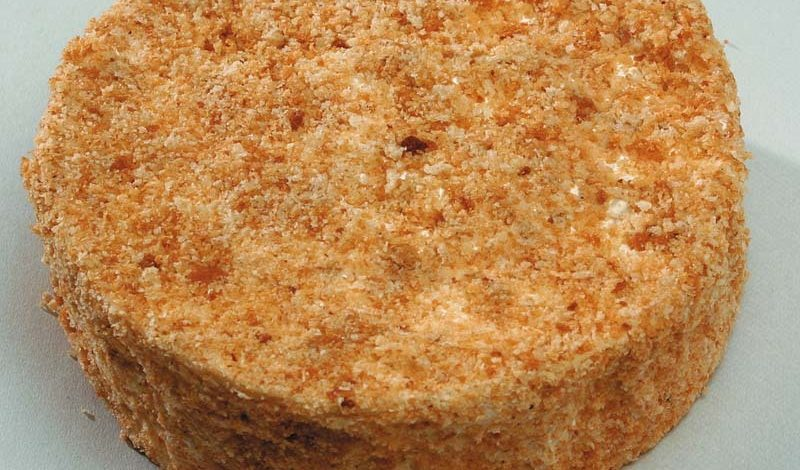camembert: (17, 1, 753, 468)
